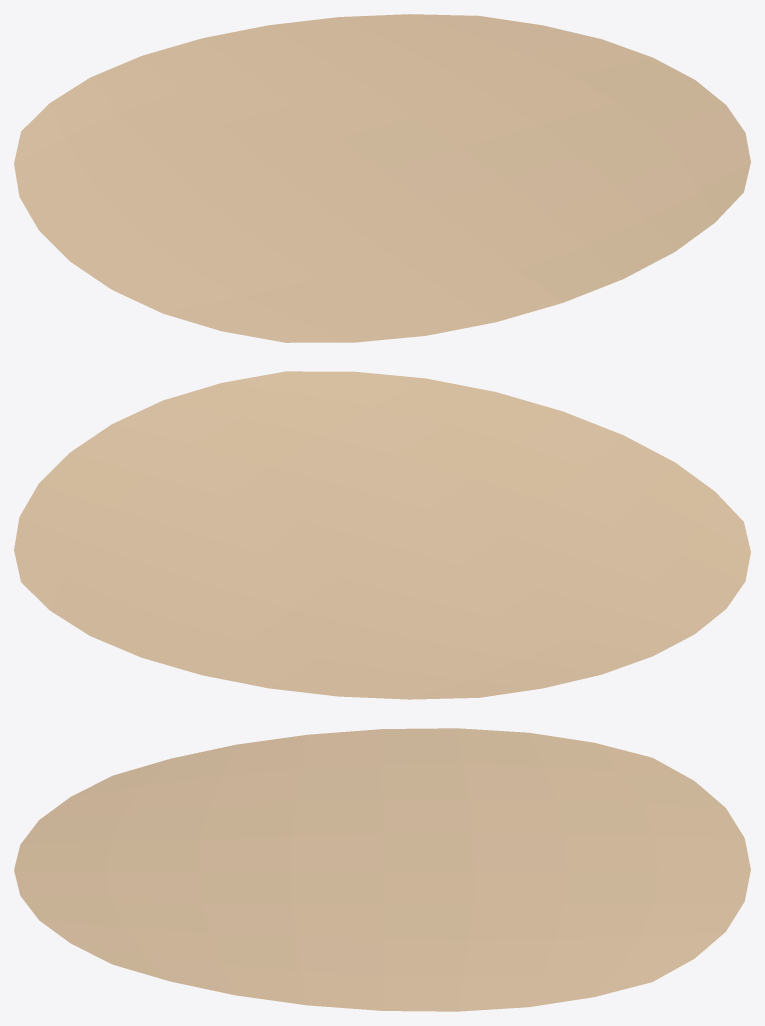
3 renders of one model, top to bottom at view 1: azimuth 30°, elevation 25°; view 2: azimuth 150°, elevation 25°; view 3: azimuth 270°, elevation 25°, orthographic. The views are drawn at different scales.
Visible parts, largest first — view 1: Plane; view 2: Plane; view 3: Plane.
Part boxes in pixels (<box>): Plane: <box>14,14,750,342</box>; Plane: <box>14,371,750,699</box>; Plane: <box>14,728,750,1011</box>.
Bounding box in the file's own units: 9.17 × 0.5598 × 9.17.
